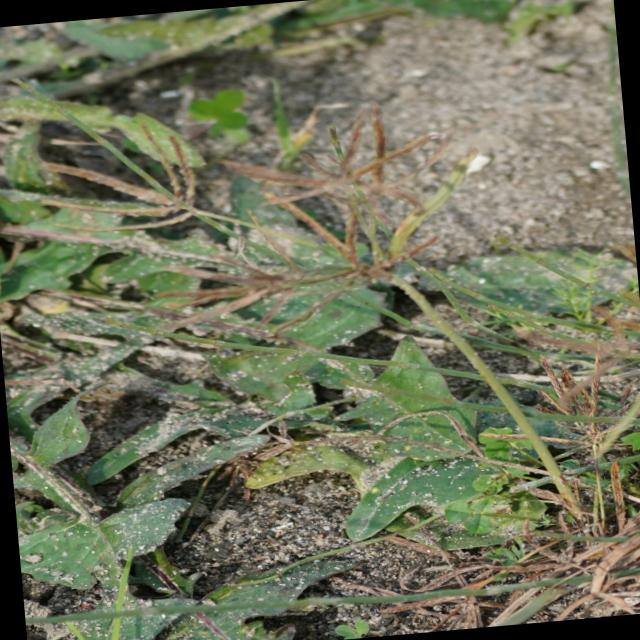cyperus: (12, 68, 474, 362), (478, 281, 640, 538)
